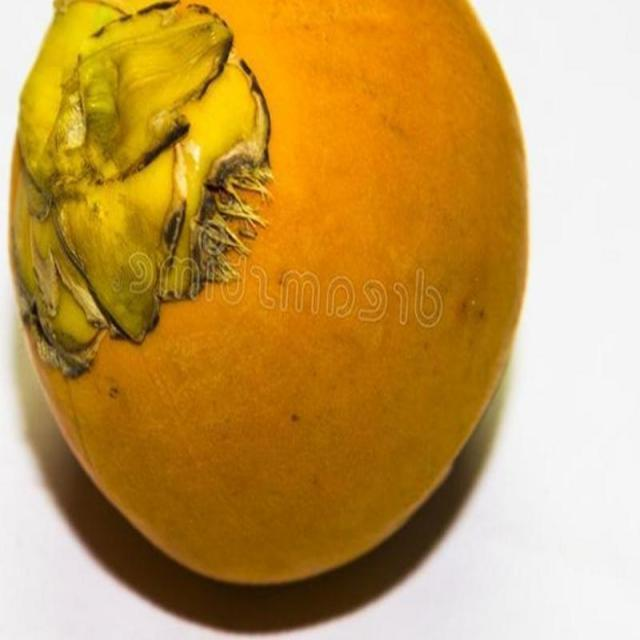good: (7, 0, 531, 591)
